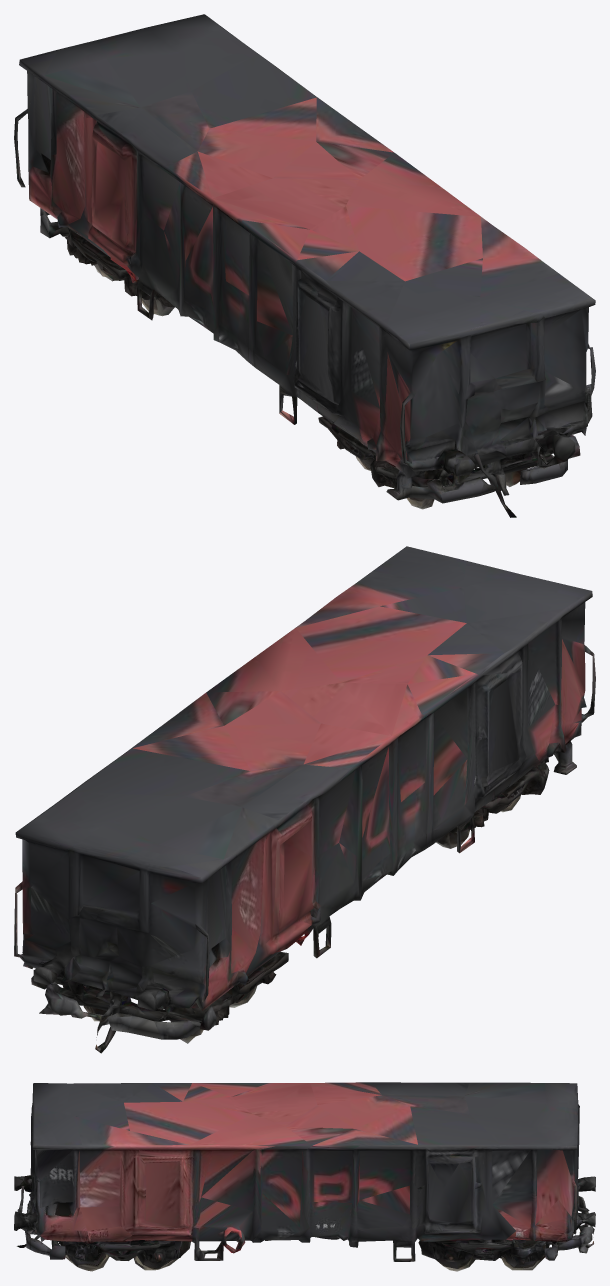
File: m-srr.glb
3 renders of one model, top to bottom at view 1: azimuth 30°, elevation 25°; view 2: azimuth 150°, elevation 25°; view 3: azimuth 270°, elevation 25°, orthographic. The views are drawn at different scales.
Parts seen in each view (by area): view 1: Mesh_0; view 2: Mesh_0; view 3: Mesh_0.
Boxes of the visible parts, x1,y1,x2,y2 form: Mesh_0: [14, 14, 595, 517]; Mesh_0: [14, 546, 595, 1053]; Mesh_0: [14, 1082, 595, 1271].
Size of the model in its own units: 0.5531 by 0.5441 by 2.
Materials: 1 (1 with a texture image).
